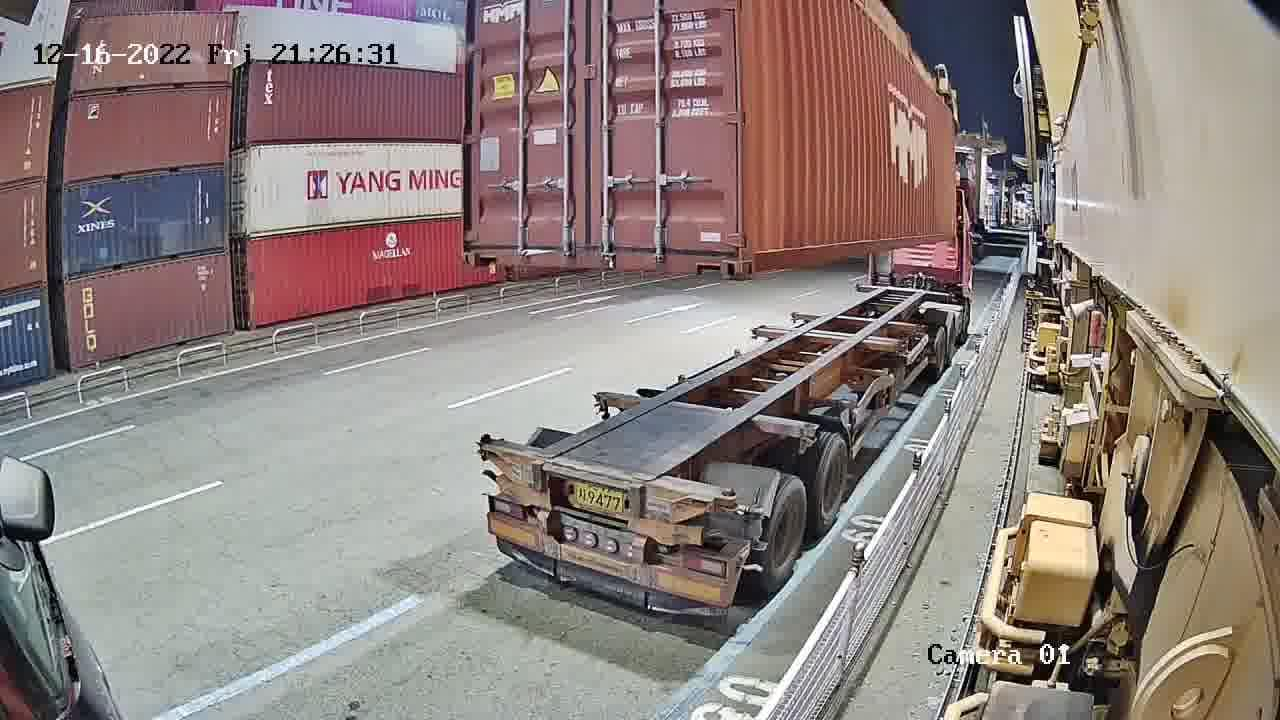Chassis: (482, 447, 727, 547)
Cone: (718, 494, 745, 517)
Container: (461, 232, 742, 280)
Hole_L: (740, 236, 766, 280), (462, 234, 483, 264)
Hole_R: (705, 235, 740, 279)
Tire: (761, 483, 805, 594), (814, 440, 849, 529)
